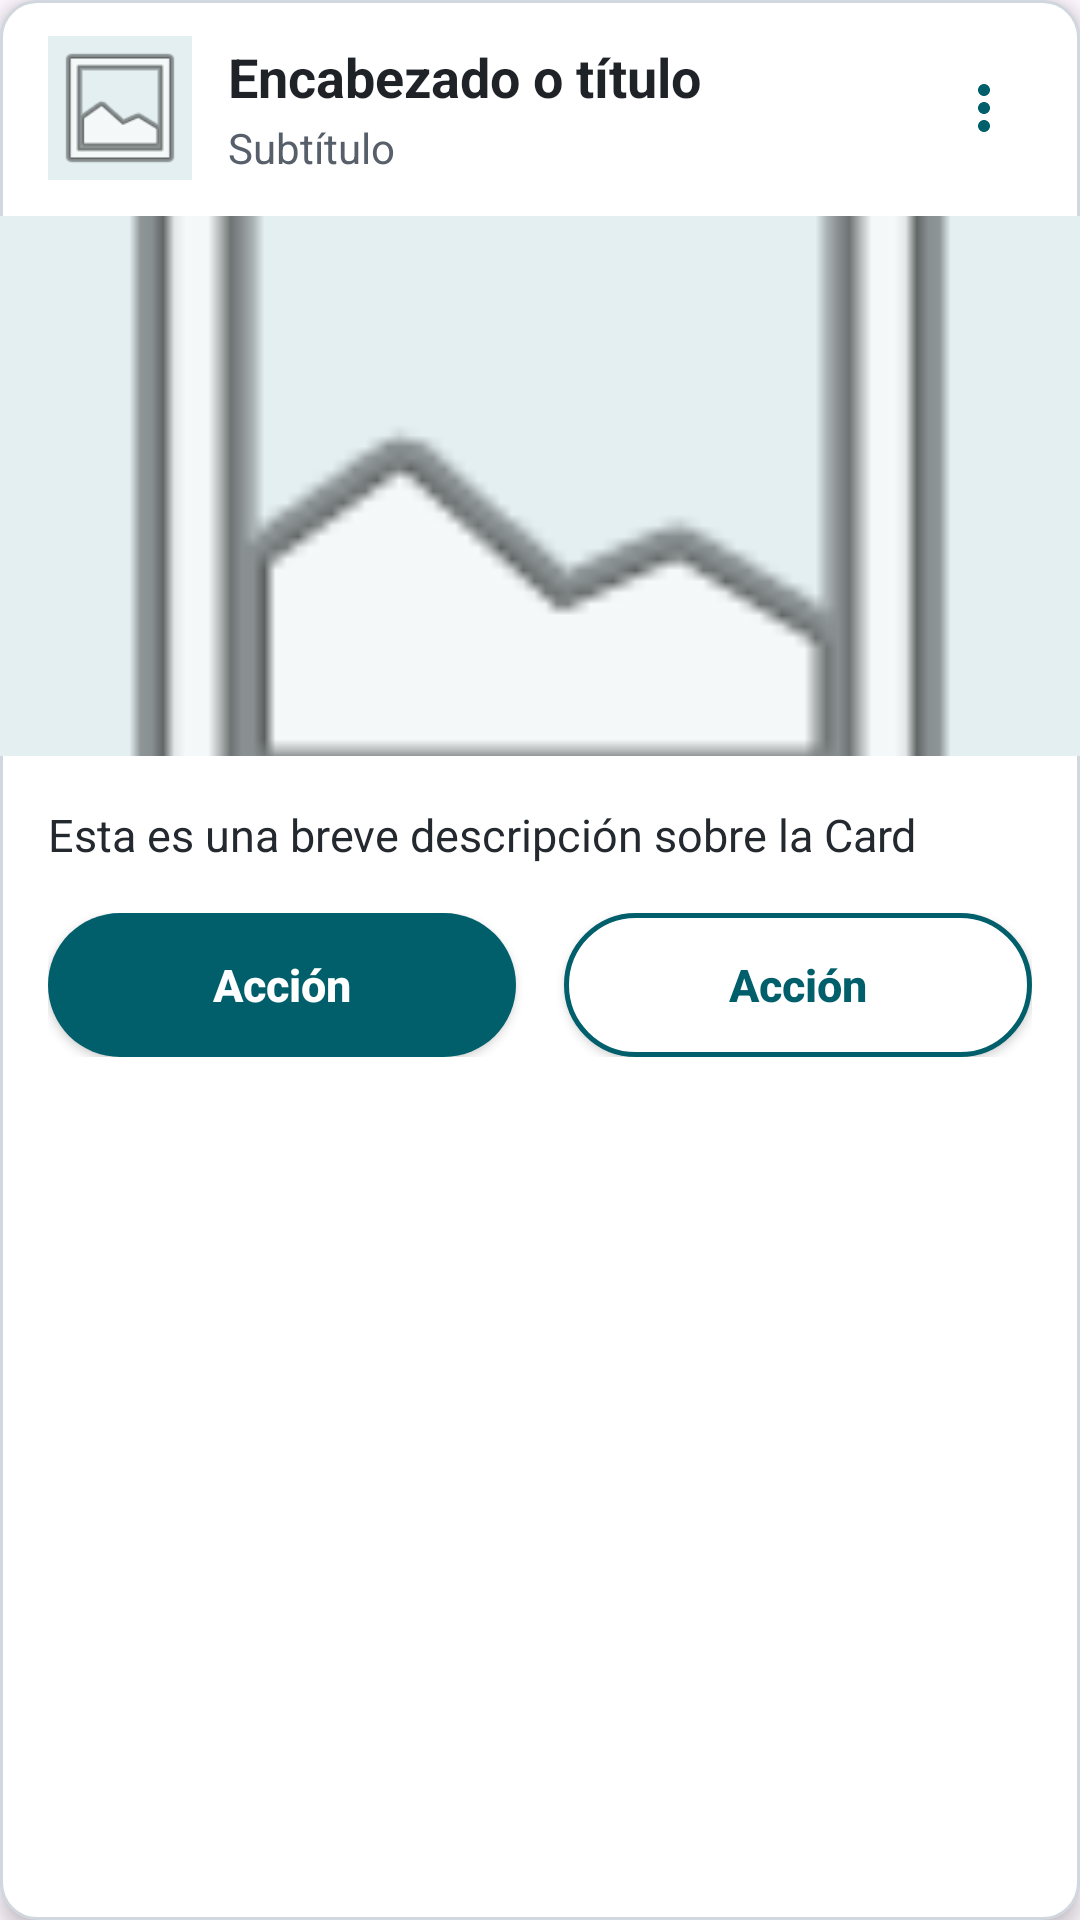

Where icons sit on this 1080px×1920px app screen, as (left=x1, top=y1, right=x2, bottom=y2):
Más opciones de la tarjeta: (left=978, top=84, right=990, bottom=132)
